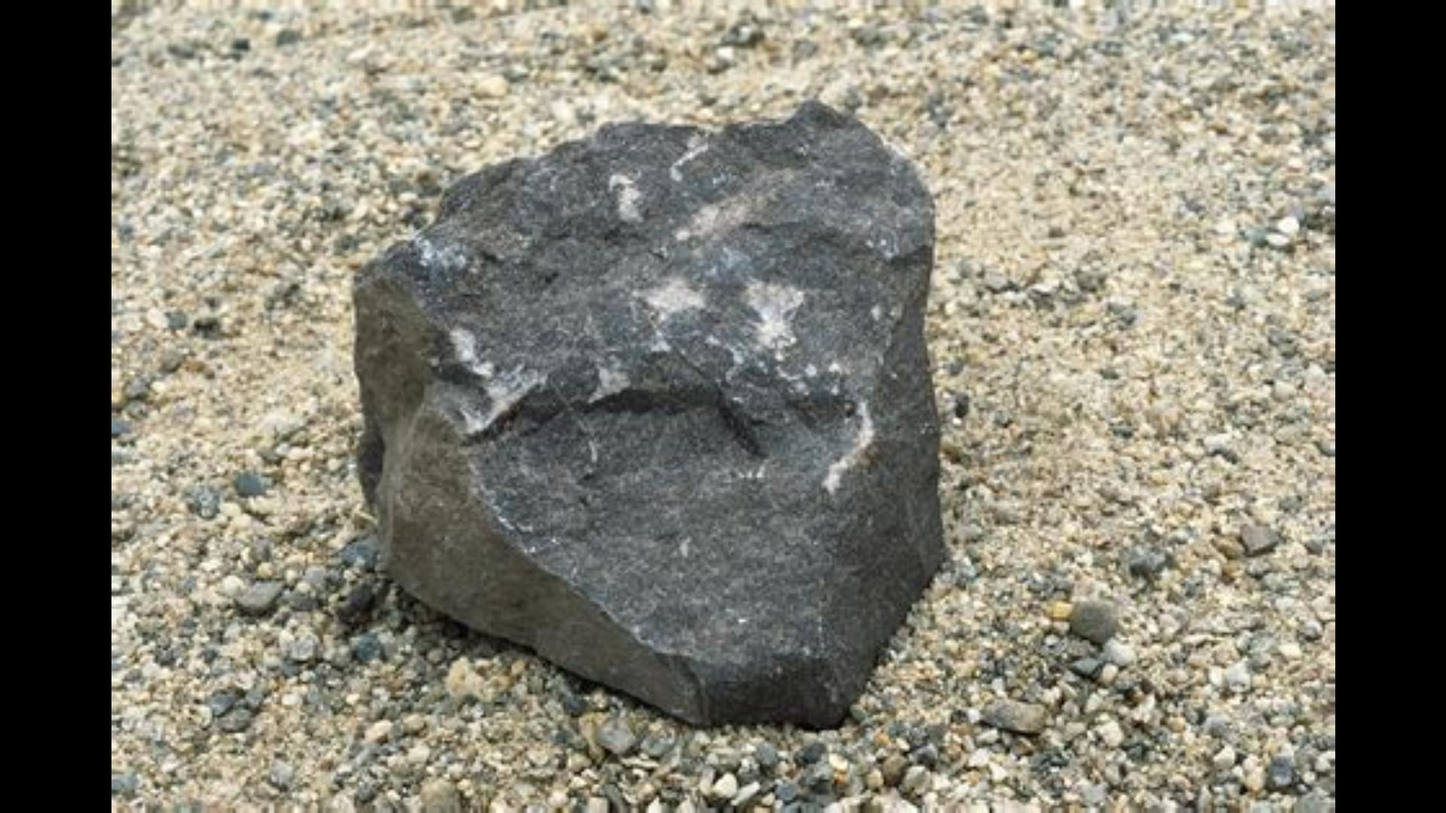rock: (356, 103, 940, 723)
